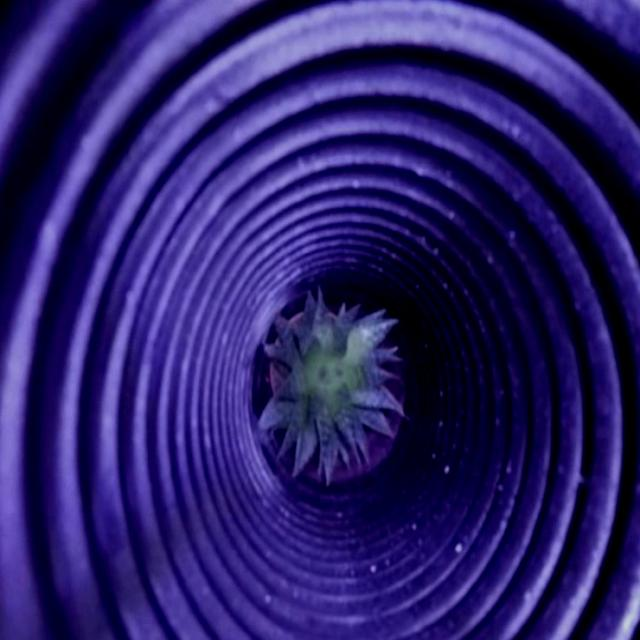leaf: (260, 299, 396, 485)
